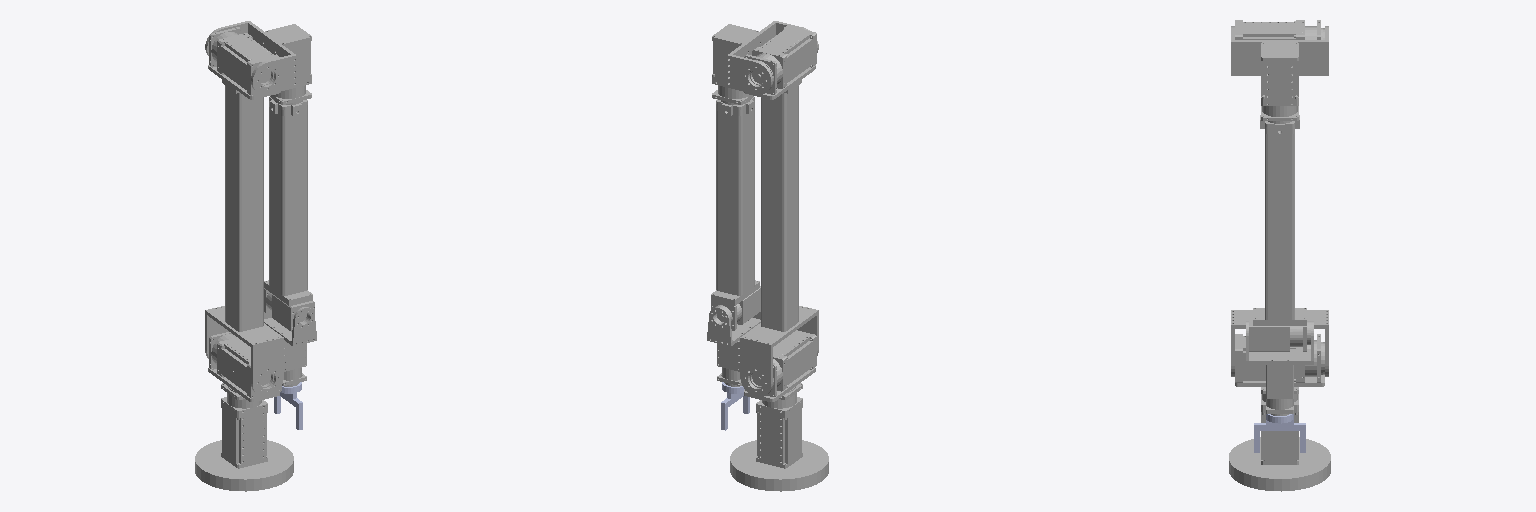
The robot description file, URDF, robot "6DOF":
<?xml version="1.0" encoding="utf-8"?>
<!-- This URDF was automatically created by SolidWorks to URDF Exporter! Originally created by [author] ([email redacted]) 
     Commit Version: 1.5.1-0-g916b5db  Build Version: 1.5.7152.31018
     For more information, please see http://wiki.ros.org/sw_urdf_exporter -->
<robot
  name="6DOF">
  <link
    name="base_link">
    <inertial>
      <origin
        xyz="2.46495235067118E-07 2.08166817117217E-17 0.044291896112337"
        rpy="0 0 0" />
      <mass
        value="0.687244754986377" />
      <inertia
        ixx="0.00100078463380536"
        ixy="1.99987466698574E-19"
        ixz="-2.26166332210013E-09"
        iyy="0.00100099520786903"
        iyz="3.57504904883576E-22"
        izz="0.00114141326109001" />
    </inertial>
    <visual>
      <origin
        xyz="0 0 0"
        rpy="0 0 0" />
      <geometry>
        <mesh
          filename="package://6DOF/meshes/base_link.STL" />
      </geometry>
      <material
        name="">
        <color
          rgba="0.752941176470588 0.752941176470588 0.752941176470588 1" />
      </material>
    </visual>
    <collision>
      <origin
        xyz="0 0 0"
        rpy="0 0 0" />
      <geometry>
        <mesh
          filename="package://6DOF/meshes/base_link.STL" />
      </geometry>
    </collision>
  </link>
  <link
    name="link1">
    <inertial>
      <origin
        xyz="4.36749143829795E-07 -0.00185979007227723 0.155943246695216"
        rpy="0 0 0" />
      <mass
        value="0.387871527947348" />
      <inertia
        ixx="0.000557010613651127"
        ixy="-2.26166332192179E-09"
        ixz="3.18011044568899E-21"
        iyy="0.000166069598266577"
        iyz="-1.40904853622495E-20"
        izz="0.000567101506856238" />
    </inertial>
    <visual>
      <origin
        xyz="0 0 0"
        rpy="0 0 0" />
      <geometry>
        <mesh
          filename="package://6DOF/meshes/link1.STL" />
      </geometry>
      <material
        name="">
        <color
          rgba="0.752941176470588 0.752941176470588 0.752941176470588 1" />
      </material>
    </visual>
    <collision>
      <origin
        xyz="0 0 0"
        rpy="0 0 0" />
      <geometry>
        <mesh
          filename="package://6DOF/meshes/link1.STL" />
      </geometry>
    </collision>
  </link>
  <joint
    name="joint1"
    type="continuous">
    <origin
      xyz="0 0 0.02"
      rpy="0 0 0" />
    <parent
      link="base_link" />
    <child
      link="link1" />
    <axis
      xyz="0 0 1" />
  </joint>
  <link
    name="link2">
    <inertial>
      <origin
        xyz="-1.31046280776523E-07 -0.323733657562701 -0.00055802873669894"
        rpy="0 0 0" />
      <mass
        value="1.2926925972718" />
      <inertia
        ixx="0.0114222430990209"
        ixy="2.24847200834491E-19"
        ixz="2.26166332670682E-09"
        iyy="0.000938178018024431"
        iyz="-6.41315390591335E-19"
        izz="0.0109765544939151" />
    </inertial>
    <visual>
      <origin
        xyz="0 0 0"
        rpy="0 0 0" />
      <geometry>
        <mesh
          filename="package://6DOF/meshes/link2.STL" />
      </geometry>
      <material
        name="">
        <color
          rgba="0.752941176470588 0.752941176470588 0.752941176470588 1" />
      </material>
    </visual>
    <collision>
      <origin
        xyz="0 0 0"
        rpy="0 0 0" />
      <geometry>
        <mesh
          filename="package://6DOF/meshes/link2.STL" />
      </geometry>
    </collision>
  </link>
  <joint
    name="joint2"
    type="continuous">
    <origin
      xyz="0 0 0.159"
      rpy="-1.5708 0 0" />
    <parent
      link="link1" />
    <child
      link="link2" />
    <axis
      xyz="0 0 1" />
  </joint>
  <link
    name="link3">
    <inertial>
      <origin
        xyz="-0.0195727059371977 0.0669249662765189 -4.0110631687254E-07"
        rpy="0 0 0" />
      <mass
        value="0.371670495939314" />
      <inertia
        ixx="0.000205414796141154"
        ixy="-6.0510021513616E-20"
        ixz="-1.05287769509746E-09"
        iyy="0.000416008427720856"
        iyz="-1.94818190228485E-21"
        izz="0.000371126476942117" />
    </inertial>
    <visual>
      <origin
        xyz="0 0 0"
        rpy="0 0 0" />
      <geometry>
        <mesh
          filename="package://6DOF/meshes/link3.STL" />
      </geometry>
      <material
        name="">
        <color
          rgba="0.752941176470588 0.752941176470588 0.752941176470588 1" />
      </material>
    </visual>
    <collision>
      <origin
        xyz="0 0 0"
        rpy="0 0 0" />
      <geometry>
        <mesh
          filename="package://6DOF/meshes/link3.STL" />
      </geometry>
    </collision>
  </link>
  <joint
    name="joint3"
    type="continuous">
    <origin
      xyz="0 -0.505 0"
      rpy="0 0 -1.5708" />
    <parent
      link="link2" />
    <child
      link="link3" />
    <axis
      xyz="0 0 1" />
  </joint>
  <link
    name="link4">
    <inertial>
      <origin
        xyz="-1.35785290317214E-07 0.000442177653259705 0.277673205237451"
        rpy="0 0 0" />
      <mass
        value="0.806405842635043" />
      <inertia
        ixx="0.00468874562362163"
        ixy="-6.37861793821858E-10"
        ixz="-2.44308783345047E-16"
        iyy="0.0046256283430093"
        iyz="-8.51139839660687E-19"
        izz="0.000322661523787588" />
    </inertial>
    <visual>
      <origin
        xyz="0 0 0"
        rpy="0 0 0" />
      <geometry>
        <mesh
          filename="package://6DOF/meshes/link4.STL" />
      </geometry>
      <material
        name="">
        <color
          rgba="0.752941176470588 0.752941176470588 0.752941176470588 1" />
      </material>
    </visual>
    <collision>
      <origin
        xyz="0 0 0"
        rpy="0 0 0" />
      <geometry>
        <mesh
          filename="package://6DOF/meshes/link4.STL" />
      </geometry>
    </collision>
  </link>
  <joint
    name="joint4"
    type="continuous">
    <origin
      xyz="0 0.077 0"
      rpy="-1.5708 0 1.5708" />
    <parent
      link="link3" />
    <child
      link="link4" />
    <axis
      xyz="0 0 1" />
  </joint>
  <link
    name="link5">
    <inertial>
      <origin
        xyz="-6.36278525853462E-07 0.0692672151638874 4.02455846426619E-16"
        rpy="0 0 0" />
      <mass
        value="0.17209138894609" />
      <inertia
        ixx="0.000108530701124314"
        ixy="6.37861794441324E-10"
        ixz="1.45017486767595E-16"
        iyy="5.6635696505909E-05"
        iyz="-4.01105619026938E-21"
        izz="9.92191045544731E-05" />
    </inertial>
    <visual>
      <origin
        xyz="0 0 0"
        rpy="0 0 0" />
      <geometry>
        <mesh
          filename="package://6DOF/meshes/link5.STL" />
      </geometry>
      <material
        name="">
        <color
          rgba="0.752941176470588 0.752941176470588 0.752941176470588 1" />
      </material>
    </visual>
    <collision>
      <origin
        xyz="0 0 0"
        rpy="0 0 0" />
      <geometry>
        <mesh
          filename="package://6DOF/meshes/link5.STL" />
      </geometry>
    </collision>
  </link>
  <joint
    name="joint5"
    type="continuous">
    <origin
      xyz="0 0 0.428"
      rpy="1.5708 0 0" />
    <parent
      link="link4" />
    <child
      link="link5" />
    <axis
      xyz="0 0 1" />
  </joint>
  <link
    name="link6">
    <inertial>
      <origin
        xyz="2.26207941267376E-15 -6.10622663543836E-16 0.145417186434244"
        rpy="0 0 0" />
      <mass
        value="0.023749432773286" />
      <inertia
        ixx="1.61748000798863E-05"
        ixy="-1.26609127288717E-21"
        ixz="-5.06996263101576E-21"
        iyy="7.95702007988634E-06"
        iyz="-3.89698324291266E-21"
        izz="1.1144885550388E-05" />
    </inertial>
    <visual>
      <origin
        xyz="0 0 0"
        rpy="0 0 0" />
      <geometry>
        <mesh
          filename="package://6DOF/meshes/link6.STL" />
      </geometry>
      <material
        name="">
        <color
          rgba="0.792156862745098 0.819607843137255 0.933333333333333 1" />
      </material>
    </visual>
    <collision>
      <origin
        xyz="0 0 0"
        rpy="0 0 0" />
      <geometry>
        <mesh
          filename="package://6DOF/meshes/link6.STL" />
      </geometry>
    </collision>
  </link>
  <joint
    name="joint6"
    type="continuous">
    <origin
      xyz="0 0 0"
      rpy="-1.5708 0 0" />
    <parent
      link="link5" />
    <child
      link="link6" />
    <axis
      xyz="0 0 1" />
  </joint>
</robot>

--- What the picture shows (computed from the rendered views, not written in the file) ---
The picture shows the robot from 3 angles, left to right: view 1: azimuth 30°, elevation 25°; view 2: azimuth 150°, elevation 25°; view 3: azimuth 270°, elevation 25°; orthographic projection.
Model 6DOF with 7 links and 6 joints (6 continuous), rooted at base_link, posed all joints at 0.
Visible links, largest first — view 1: link2, link4, base_link, link3, link1, link5, link6; view 2: link2, link4, base_link, link3, link1, link5, link6; view 3: link4, link3, base_link, link2, link5, link1, link6.
Boxes of the visible links, x1=… form: link2: x1=205, y1=27, x2=283, y2=396; link4: x1=264, y1=97, x2=314, y2=331; base_link: x1=195, y1=383, x2=293, y2=491; link3: x1=205, y1=21, x2=311, y2=104; link1: x1=208, y1=332, x2=281, y2=401; link5: x1=264, y1=307, x2=316, y2=386; link6: x1=274, y1=382, x2=302, y2=429; link2: x1=740, y1=26, x2=818, y2=396; link4: x1=711, y1=97, x2=760, y2=330; base_link: x1=730, y1=383, x2=828, y2=491; link3: x1=712, y1=21, x2=818, y2=104; link1: x1=744, y1=330, x2=816, y2=401; link5: x1=707, y1=307, x2=760, y2=386; link6: x1=721, y1=382, x2=749, y2=430; link4: x1=1249, y1=115, x2=1310, y2=351; link3: x1=1231, y1=26, x2=1328, y2=123; base_link: x1=1229, y1=387, x2=1330, y2=491; link2: x1=1231, y1=20, x2=1328, y2=376; link5: x1=1246, y1=321, x2=1313, y2=415; link1: x1=1235, y1=334, x2=1324, y2=386; link6: x1=1254, y1=414, x2=1305, y2=452.
Size in the robot's own frame: 0.1804 by 0.15 by 0.711 metres.
7 mesh visuals loaded from 7 distinct referenced files (7 binary STL).